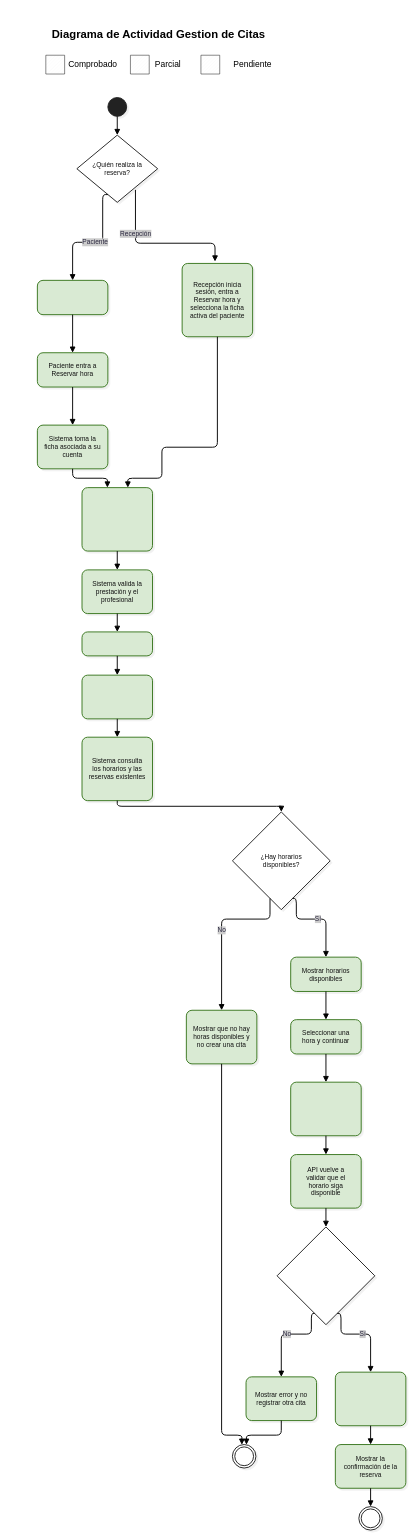
Image size: 416x1540. Some labels were removed from this diagram. Each missing label, with the centre of its shape:
Paciente inicia sesión: point (73, 298)
Paso Atención: seleccionar especialidad, prestación y profesional: point (118, 520)
Paso Confirmación: revisar los datos y confirmar: point (326, 1109)
Paso Horario: seleccionar fecha: point (118, 697)
Pulsar Continuar: point (118, 644)
Registrar la cita pendiente en la base de datos del centro: point (371, 1399)
¿El horario sigue disponible?: point (326, 1276)
